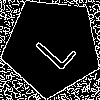L: (26, 21, 78, 72)
